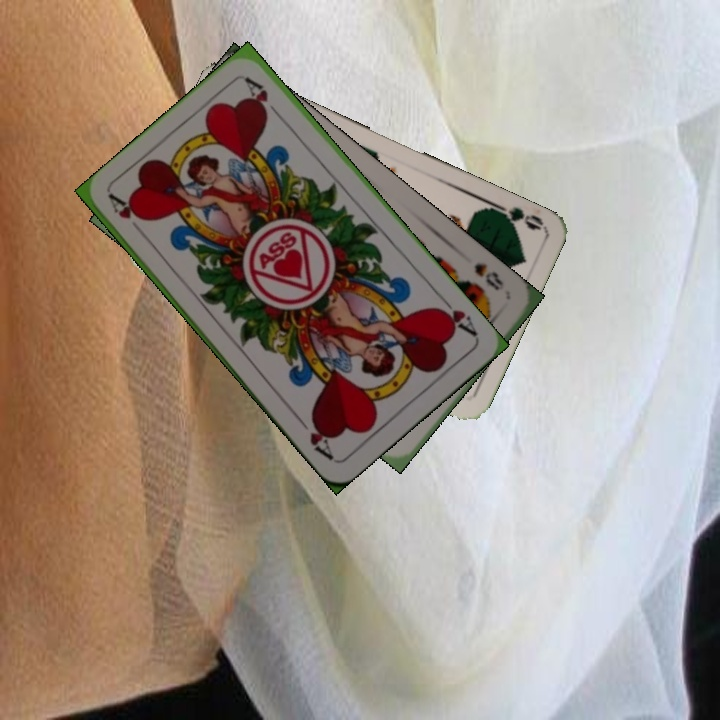GO: (485, 198, 545, 233)
HA: (431, 291, 481, 340), (105, 191, 147, 241)
S8: (470, 259, 507, 293)
